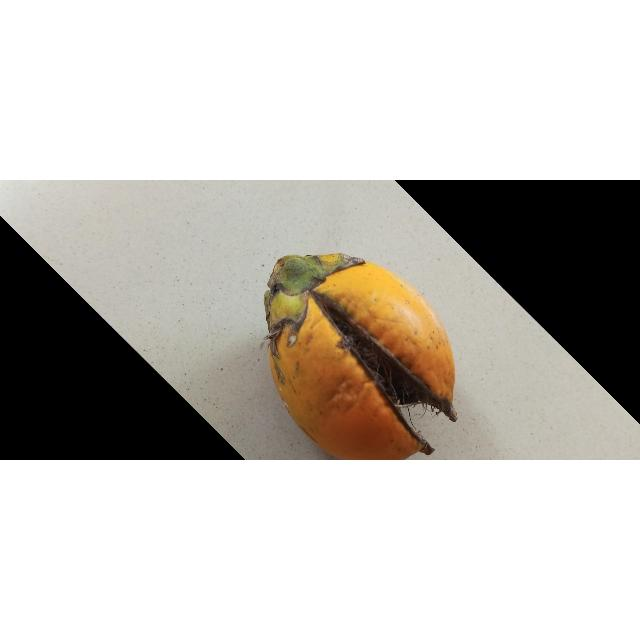damaged: (264, 254, 458, 461)
